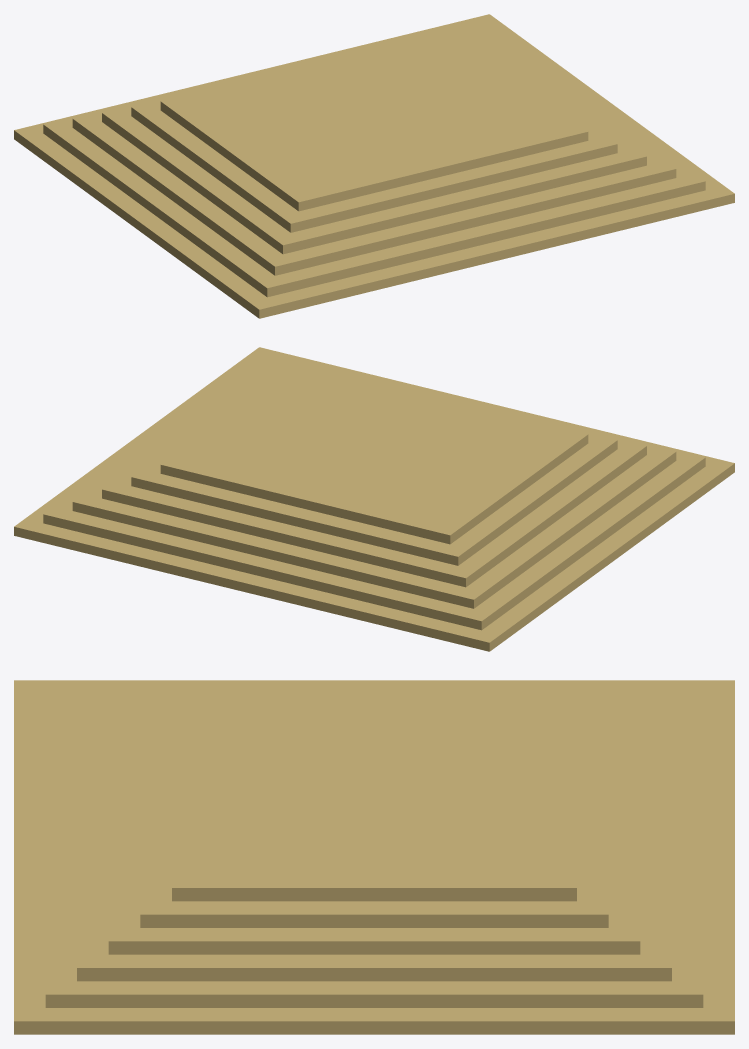
Rendered from Prop_Stairs_Grand_Sandstone_02.fbx.
3 renders of one model, top to bottom at view 1: azimuth 30°, elevation 25°; view 2: azimuth 150°, elevation 25°; view 3: azimuth 270°, elevation 25°, orthographic. The views are drawn at different scales.
Parts seen in each view (by area): view 1: Prop_Stairs_Grand_Sandstone_02; view 2: Prop_Stairs_Grand_Sandstone_02; view 3: Prop_Stairs_Grand_Sandstone_02.
Part boxes in pixels (bbox=[...]): Prop_Stairs_Grand_Sandstone_02: bbox=[14, 14, 734, 318]; Prop_Stairs_Grand_Sandstone_02: bbox=[14, 347, 734, 651]; Prop_Stairs_Grand_Sandstone_02: bbox=[14, 680, 734, 1034].
Size of the model in its own units: 4826 by 528 by 4312.
